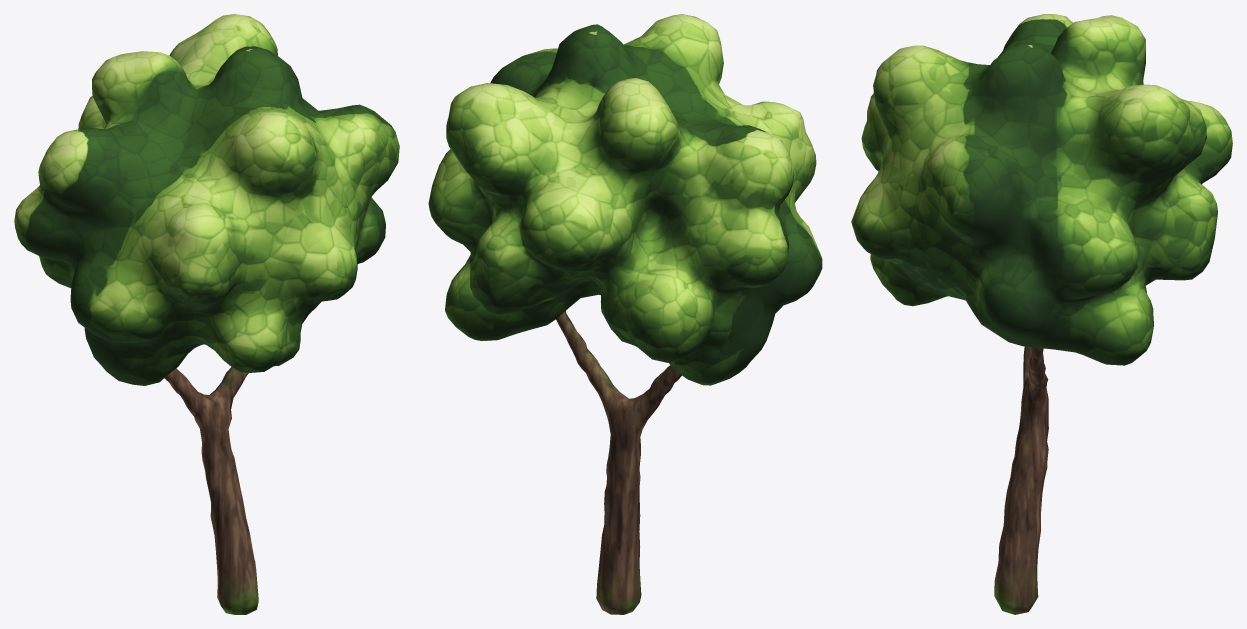
Rendered from tree_broadleaf_small.glb.
3 views of the same model, side by side, from view 1: azimuth 30°, elevation 25°; view 2: azimuth 150°, elevation 25°; view 3: azimuth 270°, elevation 25° (orthographic). The views are drawn at different scales.
Visible parts, largest first — view 1: tree_broadleaf_small; view 2: tree_broadleaf_small; view 3: tree_broadleaf_small.
Part boxes in pixels (x1,y1,x2,y2): tree_broadleaf_small: (14, 14, 399, 614); tree_broadleaf_small: (428, 14, 822, 614); tree_broadleaf_small: (851, 14, 1232, 614).
Bounding box in the file's own units: 2.88 × 4.59 × 2.76.
Materials: 1 (1 with a texture image).
